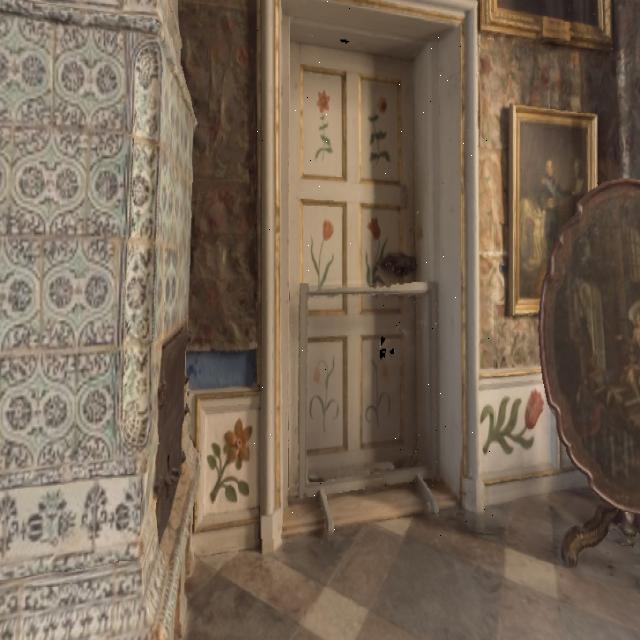door: (286, 15, 421, 510)
door-frame: (250, 0, 496, 539)
